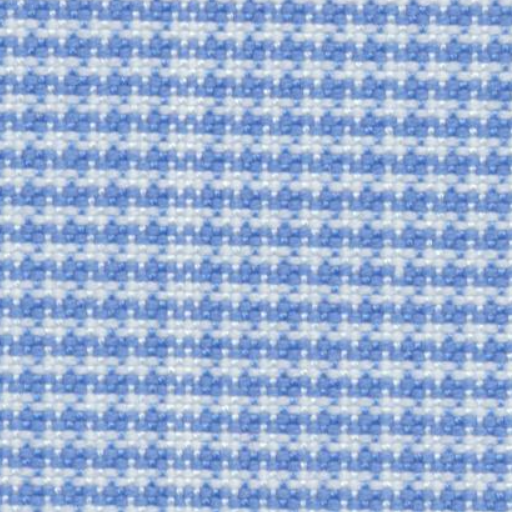TuoSha: (148, 22, 225, 491)
